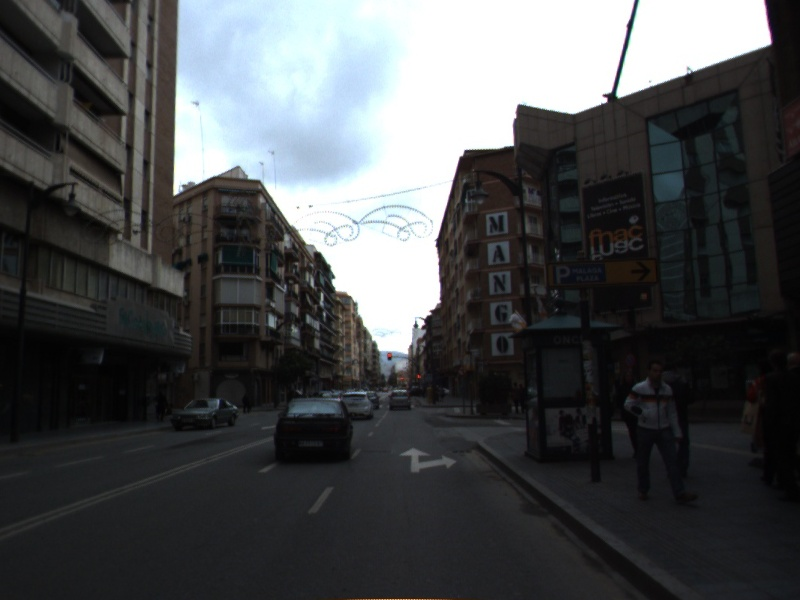STRAIGHT_RIGHT: (397, 445, 458, 474)
